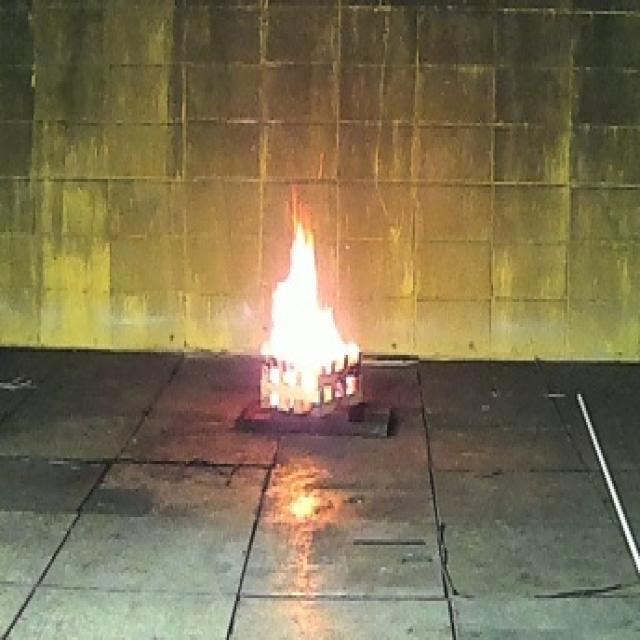Fire: (260, 182, 362, 414)
